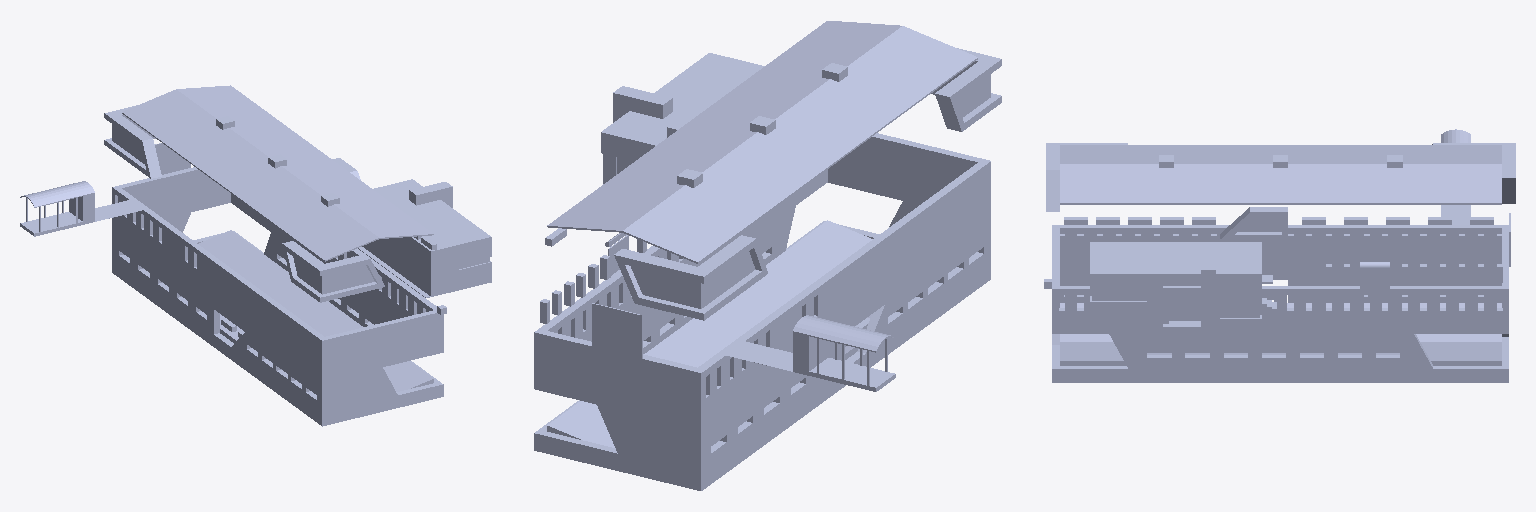
--- Facts derived from the render (not from the file) ---
3 views of the same robot in one strip: view 1: azimuth 30°, elevation 25°; view 2: azimuth 150°, elevation 25°; view 3: azimuth 270°, elevation 25° (orthographic).
Model pvc with 31 links and 30 joints (30 fixed), rooted at base_link, posed all joints at 0.
Links seen in each view (by area): view 1: main, roof_main, sub_main, back_sub_1, frame_2, frame_1, glass_2, back_sub_2, right_door, roof_plate_2, glass_1, roof_plate_1; view 2: main, roof_main, sub_main, frame_1, back_sub_1, glass_1, frame_2, right_door, front_windows, back_sub_2, roof_plate_2, roof_plate_1 (+1 smaller); view 3: main, roof_main, sub_main, front_windows, back_windows, frame_3, roof_plate_2, roof_plate_1, frame_2, big_glass, frame_1, sub_front_door (+1 smaller).
Boxes of the visible links, bbox=[...] form: main: bbox=[112, 167, 443, 426]; roof_main: bbox=[122, 85, 433, 261]; sub_main: bbox=[358, 179, 491, 297]; back_sub_1: bbox=[20, 193, 142, 236]; frame_2: bbox=[282, 241, 384, 302]; frame_1: bbox=[104, 105, 161, 178]; glass_2: bbox=[293, 257, 374, 294]; back_sub_2: bbox=[20, 181, 94, 207]; right_door: bbox=[155, 143, 190, 174]; roof_plate_2: bbox=[296, 169, 361, 194]; glass_1: bbox=[112, 119, 150, 163]; roof_plate_1: bbox=[289, 168, 364, 195]; main: bbox=[534, 133, 990, 490]; roof_main: bbox=[547, 21, 977, 263]; sub_main: bbox=[601, 53, 764, 179]; frame_1: bbox=[614, 235, 767, 320]; back_sub_1: bbox=[726, 332, 895, 391]; glass_1: bbox=[631, 252, 755, 308]; frame_2: bbox=[931, 48, 1001, 131]; right_door: bbox=[592, 303, 642, 358]; front_windows: bbox=[540, 228, 646, 323]; back_sub_2: bbox=[793, 315, 895, 351]; roof_plate_2: bbox=[724, 80, 814, 115]; roof_plate_1: bbox=[719, 78, 824, 117]; main: bbox=[1052, 225, 1508, 382]; roof_main: bbox=[1060, 145, 1501, 204]; sub_main: bbox=[1090, 242, 1276, 330]; front_windows: bbox=[1064, 217, 1502, 282]; back_windows: bbox=[1060, 234, 1501, 299]; frame_3: bbox=[1220, 207, 1287, 239]; roof_plate_2: bbox=[1185, 168, 1254, 192]; roof_plate_1: bbox=[1182, 164, 1257, 194]; frame_2: bbox=[1046, 143, 1127, 211]; big_glass: bbox=[1220, 291, 1259, 317]; frame_1: bbox=[1432, 143, 1515, 203]; sub_front_door: bbox=[1169, 294, 1200, 320].
Bounding box of the posed robot: 50.8 × 61.8 × 27.8 m (x, y, z).
Meshes: 31 distinct files referenced, 24 mesh visuals loaded (24 binary STL); not drawn: 7 (file found but could not be loaded).

The robot description file, URDF, robot "pvc":
<?xml version="1.0" encoding="utf-8"?>
<!-- This URDF was automatically created by SolidWorks to URDF Exporter! Originally created by Stephen Brawner ([email redacted]) 
     Commit Version: 1.5.1-0-g916b5db  Build Version: 1.5.7152.31018
     For more information, please see http://wiki.ros.org/sw_urdf_exporter -->
<robot
  name="pvc">
  <link
    name="base_link">
    <inertial>
      <origin
        xyz="10.256 -92.1 -4.2005"
        rpy="0 0 0" />
      <mass
        value="1000" />
      <inertia
        ixx="166.67"
        ixy="9.2519E-16"
        ixz="4.4409E-13"
        iyy="166.67"
        iyz="1.5777E-30"
        izz="166.67" />
    </inertial>
    <visual>
      <origin
        xyz="0 0 0"
        rpy="0 0 0" />
      <geometry>
        <mesh
          filename="package://pvc/meshes/base_link.STL" />
      </geometry>
      <material
        name="">
        <color
          rgba="0.79216 0.81961 0.93333 1" />
      </material>
    </visual>
    <collision>
      <origin
        xyz="0 0 0"
        rpy="0 0 0" />
      <geometry>
        <mesh
          filename="package://pvc/meshes/base_link.STL" />
      </geometry>
    </collision>
  </link>
  <link
    name="main_link">
    <inertial>
      <origin
        xyz="-19.3630057590991 5.90480374452152 47.0529907034405"
        rpy="0 0 0" />
      <mass
        value="3442807.25349707" />
      <inertia
        ixx="1157032985.3595"
        ixy="1659233.67130949"
        ixz="1000244.29349725"
        iyy="1279028266.00987"
        iyz="1985274.54687831"
        izz="221161978.183764" />
    </inertial>
    <visual>
      <origin
        xyz="0 0 0"
        rpy="0 0 0" />
      <geometry>
        <mesh
          filename="package://pvc/meshes/main_link.STL" />
      </geometry>
      <material
        name="">
        <color
          rgba="0.752941176470588 0.752941176470588 0.752941176470588 1" />
      </material>
    </visual>
    <collision>
      <origin
        xyz="0 0 0"
        rpy="0 0 0" />
      <geometry>
        <mesh
          filename="package://pvc/meshes/main_link.STL" />
      </geometry>
    </collision>
  </link>
  <joint
    name="main_link"
    type="fixed">
    <origin
      xyz="20.042 -14.504 -1.7998"
      rpy="1.5708 0 0" />
    <parent
      link="base_link" />
    <child
      link="main_link" />
    <axis
      xyz="0 0 0" />
  </joint>
  <link
    name="large_window_1">
    <inertial>
      <origin
        xyz="12.1782120496746 4.75178396310253 15.1892410748826"
        rpy="0 0 0" />
      <mass
        value="126489.683919039" />
      <inertia
        ixx="2120463.32696713"
        ixy="-70277.8488771684"
        ixz="795610.055889251"
        iyy="2798844.63863607"
        iyz="90440.015543835"
        izz="1321252.76935295" />
    </inertial>
    <visual>
      <origin
        xyz="0 0 0"
        rpy="0 0 0" />
      <geometry>
        <mesh
          filename="package://pvc/meshes/large_window_1.STL" />
      </geometry>
      <material
        name="">
        <color
          rgba="0.752941176470588 0.752941176470588 0.752941176470588 1" />
      </material>
    </visual>
    <collision>
      <origin
        xyz="0 0 0"
        rpy="0 0 0" />
      <geometry>
        <mesh
          filename="package://pvc/meshes/large_window_1.STL" />
      </geometry>
    </collision>
  </link>
  <joint
    name="large_window_1"
    type="fixed">
    <origin
      xyz="-39.2425769434349 1.34756855883034 5.37955556265205"
      rpy="0 0 0" />
    <parent
      link="main_link" />
    <child
      link="large_window_1" />
    <axis
      xyz="0 0 0" />
  </joint>
  <link
    name="frame_1">
    <inertial>
      <origin
        xyz="2.35219887985317 2.5 3.60219887985318"
        rpy="0 0 0" />
      <mass
        value="67971.7888178389" />
      <inertia
        ixx="1434862.22620417"
        ixy="-58231.8724736295"
        ixz="536137.570921857"
        iyy="1854288.58599855"
        iyz="74299.8724736293"
        izz="949553.339583414" />
    </inertial>
    <visual>
      <origin
        xyz="0 0 0"
        rpy="0 0 0" />
      <geometry>
        <mesh
          filename="package://pvc/meshes/frame_1.STL" />
      </geometry>
      <material
        name="">
        <color
          rgba="0.792156862745098 0.819607843137255 0.933333333333333 1" />
      </material>
    </visual>
    <collision>
      <origin
        xyz="0 0 0"
        rpy="0 0 0" />
      <geometry>
        <mesh
          filename="package://pvc/meshes/frame_1.STL" />
      </geometry>
    </collision>
  </link>
  <joint
    name="frame_1"
    type="fixed">
    <origin
      xyz="9.95586404215977 2.25178396310253 11.7168930673677"
      rpy="0 0 0" />
    <parent
      link="large_window_1" />
    <child
      link="frame_1" />
    <axis
      xyz="0 0 0" />
  </joint>
  <link
    name="glass_1">
    <inertial>
      <origin
        xyz="2.0715189994459 2.5 3.3215189994459"
        rpy="0 0 0" />
      <mass
        value="58517.8951012005" />
      <inertia
        ixx="685601.100762963"
        ixy="-12045.976403539"
        ixz="259472.484967393"
        iyy="944556.052637522"
        iyz="16140.1430702057"
        izz="371699.429769539" />
    </inertial>
    <visual>
      <origin
        xyz="0 0 0"
        rpy="0 0 0" />
      <geometry>
        <mesh
          filename="package://pvc/meshes/glass_1.STL" />
      </geometry>
      <material
        name="">
        <color
          rgba="0.792156862745098 0.819607843137255 0.933333333333333 1" />
      </material>
    </visual>
    <collision>
      <origin
        xyz="0 0 0"
        rpy="0 0 0" />
      <geometry>
        <mesh
          filename="package://pvc/meshes/glass_1.STL" />
      </geometry>
    </collision>
  </link>
  <joint
    name="glass_1"
    type="fixed">
    <origin
      xyz="9.95586404215977 2.25178396310253 11.7168930673677"
      rpy="0 0 0" />
    <parent
      link="large_window_1" />
    <child
      link="glass_1" />
    <axis
      xyz="0 0 0" />
  </joint>
  <link
    name="large_window_2">
    <inertial>
      <origin
        xyz="-5.89494104181004 3.72865072509259 9.17644210199591"
        rpy="0 0 0" />
      <mass
        value="110789.683919039" />
      <inertia
        ixx="1212868.31732363"
        ixy="-70277.8488771678"
        ixz="554707.878006564"
        iyy="1863513.84362992"
        iyz="70277.8488771679"
        izz="1212868.31732363" />
    </inertial>
    <visual>
      <origin
        xyz="0 0 0"
        rpy="0 0 0" />
      <geometry>
        <mesh
          filename="package://pvc/meshes/large_window_2.STL" />
      </geometry>
      <material
        name="">
        <color
          rgba="0.752941176470588 0.752941176470588 0.752941176470588 1" />
      </material>
    </visual>
    <collision>
      <origin
        xyz="0 0 0"
        rpy="0 0 0" />
      <geometry>
        <mesh
          filename="package://pvc/meshes/large_window_2.STL" />
      </geometry>
    </collision>
  </link>
  <joint
    name="large_window_2"
    type="fixed">
    <origin
      xyz="-35.9707379544919 2.3707017968403 68.7090905394307"
      rpy="0 1.5707963267949 0" />
    <parent
      link="main_link" />
    <child
      link="large_window_2" />
    <axis
      xyz="0 0 0" />
  </joint>
  <link
    name="frame_2">
    <inertial>
      <origin
        xyz="2.61903045171209 2.5 2.6190304517121"
        rpy="0 0 0" />
      <mass
        value="60771.7888178388" />
      <inertia
        ixx="874625.165139445"
        ixy="-58231.8724736288"
        ixz="385628.262069382"
        iyy="1283395.35048986"
        iyz="58231.8724736288"
        izz="874625.165139447" />
    </inertial>
    <visual>
      <origin
        xyz="0 0 0"
        rpy="0 0 0" />
      <geometry>
        <mesh
          filename="package://pvc/meshes/frame_2.STL" />
      </geometry>
      <material
        name="">
        <color
          rgba="0.792156862745098 0.819607843137255 0.933333333333333 1" />
      </material>
    </visual>
    <collision>
      <origin
        xyz="0 0 0"
        rpy="0 0 0" />
      <geometry>
        <mesh
          filename="package://pvc/meshes/frame_2.STL" />
      </geometry>
    </collision>
  </link>
  <joint
    name="frame_2"
    type="fixed">
    <origin
      xyz="-8.38735809058912 1.22865072509259 6.68402505321685"
      rpy="0 0 0" />
    <parent
      link="large_window_2" />
    <child
      link="frame_2" />
    <axis
      xyz="0 0 0" />
  </joint>
  <link
    name="glass_2">
    <inertial>
      <origin
        xyz="2.33858164708957 2.49999999999999 2.33858164708958"
        rpy="0 0 0" />
      <mass
        value="50017.8951012006" />
      <inertia
        ixx="338243.152184186"
        ixy="-12045.9764035389"
        ixz="169079.615937182"
        iyy="580118.493140059"
        iyz="12045.9764035391"
        izz="338243.152184186" />
    </inertial>
    <visual>
      <origin
        xyz="0 0 0"
        rpy="0 0 0" />
      <geometry>
        <mesh
          filename="package://pvc/meshes/glass_2.STL" />
      </geometry>
      <material
        name="">
        <color
          rgba="0.792156862745098 0.819607843137255 0.933333333333333 1" />
      </material>
    </visual>
    <collision>
      <origin
        xyz="0 0 0"
        rpy="0 0 0" />
      <geometry>
        <mesh
          filename="package://pvc/meshes/glass_2.STL" />
      </geometry>
    </collision>
  </link>
  <joint
    name="glass_2"
    type="fixed">
    <origin
      xyz="-8.38735809058912 1.22865072509259 6.68402505321685"
      rpy="0 0 0" />
    <parent
      link="large_window_2" />
    <child
      link="glass_2" />
    <axis
      xyz="0 0 0" />
  </joint>
  <link
    name="large_window_3">
    <inertial>
      <origin
        xyz="-0.503475338180358 0.629579866719466 8.88035172071675"
        rpy="0 0 0" />
      <mass
        value="40668.2320318051" />
      <inertia
        ixx="69141.975776826"
        ixy="-29601.7548732141"
        ixz="-9.65211802380359E-12"
        iyy="222737.78221881"
        iyz="-8.33840920977816E-12"
        izz="274460.404416952" />
    </inertial>
    <visual>
      <origin
        xyz="0 0 0"
        rpy="0 0 0" />
      <geometry>
        <mesh
          filename="package://pvc/meshes/large_window_3.STL" />
      </geometry>
      <material
        name="">
        <color
          rgba="0.752941176470588 0.752941176470588 0.752941176470588 1" />
      </material>
    </visual>
    <collision>
      <origin
        xyz="0 0 0"
        rpy="0 0 0" />
      <geometry>
        <mesh
          filename="package://pvc/meshes/large_window_3.STL" />
      </geometry>
    </collision>
  </link>
  <joint
    name="large_window_3"
    type="fixed">
    <origin
      xyz="-18.3867129012751 5.75637759065263 49.2393187761148"
      rpy="0 1.5707963267949 0" />
    <parent
      link="main_link" />
    <child
      link="large_window_3" />
    <axis
      xyz="0 0 0" />
  </joint>
  <link
    name="frame_3">
    <inertial>
      <origin
        xyz="-6.25930575287884 9.23594842135284 0.0999999999999996"
        rpy="0 0 0" />
      <mass
        value="28503.5220715615" />
      <inertia
        ixx="62398.2837521416"
        ixy="-26736.7717758821"
        ixz="-1.02057866576654E-11"
        iyy="192788.167864526"
        iyz="-9.4244154003967E-12"
        izz="239794.549698025" />
    </inertial>
    <visual>
      <origin
        xyz="0 0 0"
        rpy="0 0 0" />
      <geometry>
        <mesh
          filename="package://pvc/meshes/frame_3.STL" />
      </geometry>
      <material
        name="">
        <color
          rgba="0.792156862745098 0.819607843137255 0.933333333333333 1" />
      </material>
    </visual>
    <collision>
      <origin
        xyz="0 0 0"
        rpy="0 0 0" />
      <geometry>
        <mesh
          filename="package://pvc/meshes/frame_3.STL" />
      </geometry>
    </collision>
  </link>
  <joint
    name="frame_3"
    type="fixed">
    <origin
      xyz="5.64287014609501 -8.65702506871975 8.9"
      rpy="0 0 0" />
    <parent
      link="large_window_3" />
    <child
      link="frame_3" />
    <axis
      xyz="0 0 0" />
  </joint>
  <link
    name="glass_3">
    <inertial>
      <origin
        xyz="-5.88166465588971 9.40529983832208 0.5"
        rpy="0 0 0" />
      <mass
        value="12164.7099602436" />
      <inertia
        ixx="6743.6920246844"
        ixy="-2864.98309733204"
        ixz="5.53668633861799E-13"
        iyy="29949.6143542831"
        iyz="1.087657379027E-12"
        izz="34665.8547189269" />
    </inertial>
    <visual>
      <origin
        xyz="0 0 0"
        rpy="0 0 0" />
      <geometry>
        <mesh
          filename="package://pvc/meshes/glass_3.STL" />
      </geometry>
      <material
        name="">
        <color
          rgba="0.792156862745098 0.819607843137255 0.933333333333333 1" />
      </material>
    </visual>
    <collision>
      <origin
        xyz="0 0 0"
        rpy="0 0 0" />
      <geometry>
        <mesh
          filename="package://pvc/meshes/glass_3.STL" />
      </geometry>
    </collision>
  </link>
  <joint
    name="glass_3"
    type="fixed">
    <origin
      xyz="5.64287014609501 -8.65702506871975 8.1"
      rpy="0 0 0" />
    <parent
      link="large_window_3" />
    <child
      link="glass_3" />
    <axis
      xyz="0 0 0" />
  </joint>
  <link
    name="main">
    <inertial>
      <origin
        xyz="0.143494690048826 -8.60672754712109 0.454621689337197"
        rpy="0 0 0" />
      <mass
        value="2853940.68027188" />
      <inertia
        ixx="212816595.033728"
        ixy="-1793804.76764386"
        ixz="739256.432199772"
        iyy="1208377764.087"
        iyz="-1658732.74571304"
        izz="1093218497.33095" />
    </inertial>
    <visual>
      <origin
        xyz="0 0 0"
        rpy="0 0 0" />
      <geometry>
        <mesh
          filename="package://pvc/meshes/main.STL" />
      </geometry>
      <material
        name="">
        <color
          rgba="0.792156862745098 0.819607843137255 0.933333333333333 1" />
      </material>
    </visual>
    <collision>
      <origin
        xyz="0 0 0"
        rpy="0 0 0" />
      <geometry>
        <mesh
          filename="package://pvc/meshes/main.STL" />
      </geometry>
    </collision>
  </link>
  <joint
    name="main"
    type="fixed">
    <origin
      xyz="-19.2867129012751 -2.90064747806712 47.0964486300198"
      rpy="0 -1.5707963267949 0" />
    <parent
      link="main_link" />
    <child
      link="main" />
    <axis
      xyz="0 0 0" />
  </joint>
  <link
    name="roof">
    <inertial>
      <origin
        xyz="-41.9611300739514 23.2314476939045 49.2407099495549"
        rpy="0 0 0" />
      <mass
        value="219399.999999999" />
      <inertia
        ixx="5687618.0829418"
        ixy="1151.05361091158"
        ixz="-20085.6834221403"
        iyy="65710987.8207085"
        iyz="-492.386699647628"
        izz="60133796.8221995" />
    </inertial>
    <visual>
      <origin
        xyz="0 0 0"
        rpy="0 0 0" />
      <geometry>
        <mesh
          filename="package://pvc/meshes/roof.STL" />
      </geometry>
      <material
        name="">
        <color
          rgba="0.752941176470588 0.752941176470588 0.752941176470588 1" />
      </material>
    </visual>
    <collision>
      <origin
        xyz="0 0 0"
        rpy="0 0 0" />
      <geometry>
        <mesh
          filename="package://pvc/meshes/roof.STL" />
      </geometry>
    </collision>
  </link>
  <joint
    name="roof"
    type="fixed">
    <origin
      xyz="29.9539970482798 -13.423778939 89.0575790498575"
      rpy="-1.5707963267949 -1.57079631189374 1.5707963267949" />
    <parent
      link="main_link" />
    <child
      link="roof" />
    <axis
      xyz="0 0 0" />
  </joint>
  <link
    name="roof_main">
    <inertial>
      <origin
        xyz="-29.0260614340081 0.907660753272412 -8.98855647025136"
        rpy="0 0 0" />
      <mass
        value="218687.585620454" />
      <inertia
        ixx="5684682.93784561"
        ixy="1151.05356549428"
        ixz="-20085.6834150537"
        iyy="65705002.2236029"
        iyz="-16.4191500328177"
        izz="60130587.7024665" />
    </inertial>
    <visual>
      <origin
        xyz="0 0 0"
        rpy="0 0 0" />
      <geometry>
        <mesh
          filename="package://pvc/meshes/roof_main.STL" />
      </geometry>
      <material
        name="">
        <color
          rgba="0.792156862745098 0.819607843137255 0.933333333333333 1" />
      </material>
    </visual>
    <collision>
      <origin
        xyz="0 0 0"
        rpy="0 0 0" />
      <geometry>
        <mesh
          filename="package://pvc/meshes/roof_main.STL" />
      </geometry>
    </collision>
  </link>
  <joint
    name="roof_main"
    type="fixed">
    <origin
      xyz="-12.961130087475 22.3231316539074 58.2407099495549"
      rpy="0 0 0" />
    <parent
      link="roof" />
    <child
      link="roof_main" />
    <axis
      xyz="0 0 0" />
  </joint>
  <link
    name="roof_plate_1">
    <inertial>
      <origin
        xyz="-5.00000000007344 3.91283534919386 0.00499992660343018"
        rpy="0 0 0" />
      <mass
        value="335.414379544736" />
      <inertia
        ixx="1878.28528786426"
        ixy="-2.46375802028015E-11"
        ixz="-4.57481836942081E-05"
        iyy="3116.51512465932"
        iyz="2.83932875401424E-11"
        izz="4994.79482228392" />
    </inertial>
    <visual>
      <origin
        xyz="0 0 0"
        rpy="0 0 0" />
      <geometry>
        <mesh
          filename="package://pvc/meshes/roof_plate_1.STL" />
      </geometry>
      <material
        name="">
        <color
          rgba="0.792156862745098 0.819607843137255 0.933333333333333 1" />
      </material>
    </visual>
    <collision>
      <origin
        xyz="0 0 0"
        rpy="0 0 0" />
      <geometry>
        <mesh
          filename="package://pvc/meshes/roof_plate_1.STL" />
      </geometry>
    </collision>
  </link>
  <joint
    name="roof_plate_1"
    type="fixed">
    <origin
      xyz="-28.9611300796019 22.8519298667375 42.2134977972192"
      rpy="1.40564764938028 0 0" />
    <parent
      link="roof" />
    <child
      link="roof_plate_1" />
    <axis
      xyz="0 0 0" />
  </joint>
  <link
    name="roof_plate_2">
    <inertial>
      <origin
        xyz="-5.0000000000734 3.24999999999997 0.00499992660344439"
        rpy="0 0 0" />
      <mass
        value="376.999999999996" />
      <inertia
        ixx="1056.85980833333"
        ixy="1.6018280958341E-13"
        ixz="-1.948002261764E-07"
        iyy="13.2766833333331"
        iyz="1.6016521443628E-11"
        izz="1070.13020833333" />
    </inertial>
    <visual>
      <origin
        xyz="0 0 0"
        rpy="0 0 0" />
      <geometry>
        <mesh
          filename="package://pvc/meshes/roof_plate_2.STL" />
      </geometry>
      <material
        name="">
        <color
          rgba="0.792156862745098 0.819607843137255 0.933333333333333 1" />
      </material>
    </visual>
    <collision>
      <origin
        xyz="0 0 0"
        rpy="0 0 0" />
      <geometry>
        <mesh
          filename="package://pvc/meshes/roof_plate_2.STL" />
      </geometry>
    </collision>
  </link>
  <joint
    name="roof_plate_2"
    type="fixed">
    <origin
      xyz="-28.9611300796019 22.8519298667375 42.2134977972192"
      rpy="1.40564764938028 0 0" />
    <parent
      link="roof" />
    <child
      link="roof_plate_2" />
    <axis
      xyz="0 0 0" />
  </joint>
  <link
    name="back_windows">
    <inertial>
      <origin
        xyz="0.251999999999988 -4.12799999999986 -0.400000000000006"
        rpy="0 0 0" />
      <mass
        value="51200.0000000056" />
      <inertia
        ixx="21189.9733333415"
        ixy="-7.58512423242329E-12"
        ixz="4.29286236188497E-14"
        iyy="16930.133333334"
        iyz="3.22610086792984E-13"
        izz="32658.7733333415" />
    </inertial>
    <visual>
      <origin
        xyz="0 0 0"
        rpy="0 0 0" />
      <geometry>
        <mesh
          filename="package://pvc/meshes/back_windows.STL" />
      </geometry>
      <material
        name="">
        <color
          rgba="0.792156862745098 0.819607843137255 0.933333333333333 1" />
      </material>
    </visual>
    <collision>
      <origin
        xyz="0 0 0"
        rpy="0 0 0" />
      <geometry>
        <mesh
          filename="package://pvc/meshes/back_windows.STL" />
      </geometry>
    </collision>
  </link>
  <joint
    name="back_windows"
    type="fixed">
    <origin
      xyz="-28.2867129012751 -2.90064747806779 47.0964486300198"
      rpy="0 -1.5707963267949 0" />
    <parent
      link="main_link" />
    <child
      link="back_windows" />
    <axis
      xyz="0 0 0" />
  </joint>
  <link
    name="front_windows">
    <inertial>
      <origin
        xyz="6.06249999999992 6.75 0.399999999999983"
        rpy="0 0 0" />
      <mass
        value="32767.9999999999" />
      <inertia
        ixx="8738.13333333316"
        ixy="9.93043140252865E-12"
        ixz="5.52462238737165E-11"
        iyy="19879.2533333333"
        iyz="-2.16151453479672E-13"
        izz="25122.1333333332" />
    </inertial>
    <visual>
      <origin
        xyz="0 0 0"
        rpy="0 0 0" />
      <geometry>
        <mesh
          filename="package://pvc/meshes/front_windows.STL" />
      </geometry>
      <material
        name="">
        <color
          rgba="0.792156862745098 0.819607843137255 0.933333333333333 1" />
      </material>
    </visual>
    <collision>
      <origin
        xyz="0 0 0"
        rpy="0 0 0" />
      <geometry>
        <mesh
          filename="package://pvc/meshes/front_windows.STL" />
      </geometry>
    </collision>
  </link>
  <joint
    name="front_windows"
    type="fixed">
    <origin
      xyz="-10.2867129012749 -2.90064747806712 47.0964486300198"
      rpy="0 1.5707963267949 0" />
    <parent
      link="main_link" />
    <child
      link="front_windows" />
    <axis
      xyz="0 0 0" />
  </joint>
  <link
    name="right_door">
    <inertial>
      <origin
        xyz="-1.11022302462516E-16 2.5 0.0750000000000064"
        rpy="0 0 0" />
      <mass
        value="4499.99999999996" />
      <inertia
        ixx="9383.43749999991"
        ixy="-1.66533453693772E-13"
        ixz="-1.77635683940023E-14"
        iyy="13508.4374999999"
        iyz="-7.48972756150585E-31"
        izz="22874.9999999998" />
    </inertial>
    <visual>
      <origin
        xyz="0 0 0"
        rpy="0 0 0" />
      <geometry>
        <mesh
          filename="package://pvc/meshes/right_door.STL" />
      </geometry>
      <material
        name="">
        <color
          rgba="0.792156862745098 0.819607843137255 0.933333333333333 1" />
      </material>
    </visual>
    <collision>
      <origin
        xyz="0 0 0"
        rpy="0 0 0" />
      <geometry>
        <mesh
          filename="package://pvc/meshes/right_door.STL" />
      </geometry>
    </collision>
  </link>
  <joint
    name="right_door"
    type="fixed">
    <origin
      xyz="-19.2867129012751 -2.90064747806712 16.9464486300198"
      rpy="0 0 0" />
    <parent
      link="main_link" />
    <child
      link="right_door" />
    <axis
      xyz="0 0 0" />
  </joint>
  <link
    name="front_door">
    <inertial>
      <origin
        xyz="-7.105427357601E-15 2.36164284932063 0.141594156910822"
        rpy="0 0 0" />
      <mass
        value="3050.97335529233" />
      <inertia
        ixx="1698.89800839913"
        ixy="-3.76111205445622E-13"
        ixz="1.43720413827821E-11"
        iyy="4100.01347792267"
        iyz="8.53859777674536"
        izz="5734.81347792267" />
    </inertial>
    <visual>
      <origin
        xyz="0 0 0"
        rpy="0 0 0" />
      <geometry>
        <mesh
          filename="package://pvc/meshes/front_door.STL" />
      </geometry>
      <material
        name="">
        <color
          rgba="0.792156862745098 0.819607843137255 0.933333333333333 1" />
      </material>
    </visual>
    <collision>
      <origin
        xyz="0 0 0"
        rpy="0 0 0" />
      <geometry>
        <mesh
          filename="package://pvc/meshes/front_door.STL" />
      </geometry>
    </collision>
  </link>
  <joint
    name="front_door"
    type="fixed">
    <origin
      xyz="-9.28671290127497 -2.90064747806712 34.7214486300198"
      rpy="0 1.5707963267949 0" />
    <parent
      link="main_link" />
    <child
      link="front_door" />
    <axis
      xyz="0 0 0" />
  </joint>
  <link
    name="back_link">
    <inertial>
      <origin
        xyz="-0.158382252579052 -2.86572985993179 9.19041399364423"
        rpy="0 0 0" />
      <mass
        value="59302.6486145417" />
      <inertia
        ixx="593746.301186771"
        ixy="3.11210670515527E-12"
        ixz="-2.31325838930079E-10"
        iyy="548027.854843686"
        iyz="-91124.0461001585"
        izz="208334.738359049" />
    </inertial>
    <visual>
      <origin
        xyz="0 0 0"
        rpy="0 0 0" />
      <geometry>
        <mesh
          filename="package://pvc/meshes/back_link.STL" />
      </geometry>
      <material
        name="">
        <color
          rgba="0.752941176470588 0.752941176470588 0.752941176470588 1" />
      </material>
    </visual>
    <collision>
      <origin
        xyz="0 0 0"
        rpy="0 0 0" />
      <geometry>
        <mesh
          filename="package://pvc/meshes/back_link.STL" />
      </geometry>
    </collision>
  </link>
  <joint
    name="back_link"
    type="fixed">
    <origin
      xyz="-29.244 -38.442 0.15773"
      rpy="1.5708 0 1.5708" />
    <parent
      link="base_link" />
    <child
      link="back_link" />
    <axis
      xyz="0 0 0" />
  </joint>
  <link
    name="back_sub_1">
    <inertial>
      <origin
        xyz="2 -2.63565535643514 -1.74281535006084"
        rpy="0 0 0" />
      <mass
        value="54940.1085577796" />
      <inertia
        ixx="557180.475742585"
        ixy="-2.35147068505599E-10"
        ixz="-1.46111216592133E-11"
        iyy="202471.672848153"
        iyz="91124.0461001583"
        izz="506021.613830942" />
    </inertial>
    <visual>
      <origin
        xyz="0 0 0"
        rpy="0 0 0" />
      <geometry>
        <mesh
          filename="package://pvc/meshes/back_sub_1.STL" />
      </geometry>
      <material
        name="">
        <color
          rgba="0.792156862745098 0.819607843137255 0.933333333333333 1" />
      </material>
    </visual>
    <collision>
      <origin
        xyz="0 0 0"
        rpy="0 0 0" />
      <geometry>
        <mesh
          filename="package://pvc/meshes/back_sub_1.STL" />
      </geometry>
    </collision>
  </link>
  <joint
    name="back_sub_1"
    type="fixed">
    <origin
      xyz="-2.15838225257905 -4.85818682703273 12"
      rpy="1.5707963267949 0 0" />
    <parent
      link="back_link" />
    <child
      link="back_sub_1" />
    <axis
      xyz="0 0 0" />
  </joint>
  <link
    name="back_sub_2">
    <inertial>
      <origin
        xyz="-2 -4.6263450144928 5.00000000000001"
        rpy="0 0 0" />
      <mass
        value="4362.54005676206" />
      <inertia
        ixx="36565.8254441856"
        ixy="1.10725371137335E-11"
        ixz="-5.92118946466865E-13"
        iyy="42006.241012744"
        iyz="-1.47507138483634E-10"
        izz="5863.0655108951" />
    </inertial>
    <visual>
      <origin
        xyz="0 0 0"
        rpy="0 0 0" />
      <geometry>
        <mesh
          filename="package://pvc/meshes/back_sub_2.STL" />
      </geometry>
      <material
        name="">
        <color
          rgba="0.792156862745098 0.819607843137255 0.933333333333333 1" />
      </material>
    </visual>
    <collision>
      <origin
        xyz="0 0 0"
        rpy="0 0 0" />
      <geometry>
        <mesh
          filename="package://pvc/meshes/back_sub_2.STL" />
      </geometry>
    </collision>
  </link>
  <joint
    name="back_sub_2"
    type="fixed">
    <origin
      xyz="1.84161774742094 -4.34818682703269 12"
      rpy="3.14159265358979 0 0" />
    <parent
      link="back_link" />
    <child
      link="back_sub_2" />
    <axis
      xyz="0 0 0" />
  </joint>
  <link
    name="front_link">
    <inertial>
      <origin
        xyz="0 0 0"
        rpy="0 0 0" />
      <mass
        value="0" />
      <inertia
        ixx="0"
        ixy="0"
        ixz="0"
        iyy="0"
        iyz="0"
        izz="0" />
    </inertial>
    <visual>
      <origin
        xyz="0 0 0"
        rpy="0 0 0" />
      <geometry>
        <mesh
          filename="package://pvc/meshes/front_link.STL" />
      </geometry>
      <material
        name="">
        <color
          rgba="1 1 1 1" />
      </material>
    </visual>
    <collision>
      <origin
        xyz="0 0 0"
        rpy="0 0 0" />
      <geometry>
        <mesh
          filename="package://pvc/meshes/front_link.STL" />
      </geometry>
    </collision>
  </link>
  <joint
    name="front_link"
    type="fixed">
    <origin
      xyz="28.0451810814272 -88.8012197270756 -30.1995800884917"
      rpy="1.5707963267949 0 1.5707963267949" />
    <parent
      link="base_link" />
    <child
      link="front_link" />
    <axis
      xyz="0 0 0" />
  </joint>
  <link
    name="small_glass">
    <inertial>
      <origin
        xyz="2.5936974789916 3.6 -1.64369747899161"
        rpy="0 0 0" />
      <mass
        value="7616.00000000001" />
      <inertia
        ixx="19012.2308123249"
        ixy="4.29255837224631E-12"
        ixz="-15847.5025210084"
        iyy="58586.3282913166"
        iyz="-5.93913297193751E-12"
        izz="40386.470812325" />
    </inertial>
    <visual>
      <origin
        xyz="0 0 0"
        rpy="0 0 0" />
      <geometry>
        <mesh
          filename="package://pvc/meshes/small_glass.STL" />
      </geometry>
      <material
        name="">
        <color
          rgba="0.792156862745098 0.819607843137255 0.933333333333333 1" />
      </material>
    </visual>
    <collision>
      <origin
        xyz="0 0 0"
        rpy="0 0 0" />
      <geometry>
        <mesh
          filename="package://pvc/meshes/small_glass.STL" />
      </geometry>
    </collision>
  </link>
  <joint
    name="small_glass"
    type="fixed">
    <origin
      xyz="2.20121972707564 25.4991230822634 -6.48955934436527"
      rpy="0 0 0" />
    <parent
      link="front_link" />
    <child
      link="small_glass" />
    <axis
      xyz="0 0 0" />
  </joint>
  <link
    name="big_glass">
    <inertial>
      <origin
        xyz="-1.9963700234192 2.87587822014051 -2.26932084309133"
        rpy="0 0 0" />
      <mass
        value="27328" />
      <inertia
        ixx="37514.6666666667"
        ixy="-9.97632702803986E-12"
        ixz="1.20571031347994E-10"
        iyy="43957.3866666666"
        iyz="-7.48259358849044E-14"
        izz="74064.2666666666" />
    </inertial>
    <visual>
      <origin
        xyz="0 0 0"
        rpy="0 0 0" />
      <geometry>
        <mesh
          filename="package://pvc/meshes/big_glass.STL" />
      </geometry>
      <material
        name="">
        <color
          rgba="0.792156862745098 0.819607843137255 0.933333333333333 1" />
      </material>
    </visual>
    <collision>
      <origin
        xyz="0 0 0"
        rpy="0 0 0" />
      <geometry>
        <mesh
          filename="package://pvc/meshes/big_glass.STL" />
      </geometry>
    </collision>
  </link>
  <joint
    name="big_glass"
    type="fixed">
    <origin
      xyz="24.7012197270756 25.4991230822634 -6.48955934436535"
      rpy="0 0 0" />
    <parent
      link="front_link" />
    <child
      link="big_glass" />
    <axis
      xyz="0 0 0" />
  </joint>
  <link
    name="front">
    <inertial>
      <origin
        xyz="1.51702127659574 3.88297872340426 0.299999999999997"
        rpy="0 0 0" />
      <mass
        value="4512" />
      <inertia
        ixx="11264.9327659575"
        ixy="-6133.78723404256"
        ixz="3.49490423948924E-11"
        iyy="10202.2127659575"
        iyz="2.2582290647373E-11"
        izz="21196.4255319149" />
    </inertial>
    <visual>
      <origin
        xyz="0 0 0"
        rpy="0 0 0" />
      <geometry>
        <mesh
          filename="package://pvc/meshes/front.STL" />
      </geometry>
      <material
        name="">
        <color
          rgba="0.792156862745098 0.819607843137255 0.933333333333333 1" />
      </material>
    </visual>
    <collision>
      <origin
        xyz="0 0 0"
        rpy="0 0 0" />
      <geometry>
        <mesh
          filename="package://pvc/meshes/front.STL" />
      </geometry>
    </collision>
  </link>
  <joint
    name="front"
    type="fixed">
    <origin
      xyz="11.7012197270756 25.4991230822634 -6.4895593443653"
      rpy="0 0 0" />
    <parent
      link="front_link" />
    <child
      link="front" />
    <axis
      xyz="0 0 0" />
  </joint>
  <link
    name="sub_front_door">
    <inertial>
      <origin
        xyz="12.4 2.5 0.399999999999956"
        rpy="0 0 0" />
      <mass
        value="14784" />
      <inertia
        ixx="24640"
        ixy="3.40766272795975E-12"
        ixz="6.43325707790502E-11"
        iyy="22520.9600000001"
        iyz="-6.78620839408801E-13"
        izz="45584" />
    </inertial>
    <visual>
      <origin
        xyz="0 0 0"
        rpy="0 0 0" />
      <geometry>
        <mesh
          filename="package://pvc/meshes/sub_front_door.STL" />
      </geometry>
      <material
        name="">
        <color
          rgba="0.792156862745098 0.819607843137255 0.933333333333333 1" />
      </material>
    </visual>
    <collision>
      <origin
        xyz="0 0 0"
        rpy="0 0 0" />
      <geometry>
        <mesh
          filename="package://pvc/meshes/sub_front_door.STL" />
      </geometry>
    </collision>
  </link>
  <joint
    name="sub_front_door"
    type="fixed">
    <origin
      xyz="2.20121972707562 25.4991230822634 -7.48955934436527"
      rpy="0 0 0" />
    <parent
      link="front_link" />
    <child
      link="sub_front_door" />
    <axis
      xyz="0 0 0" />
  </joint>
  <link
    name="right">
    <inertial>
      <origin
        xyz="0.900000000000002 3.125 0.800000000000004"
        rpy="0 0 0" />
      <mass
        value="900" />
      <inertia
        ixx="196.6875"
        ixy="4.49480470332805E-14"
        ixz="2.24280684755988E-13"
        iyy="571.687500000001"
        iyz="1.11131518195126E-13"
        izz="384.375000000001" />
    </inertial>
    <visual>
      <origin
        xyz="0 0 0"
        rpy="0 0 0" />
      <geometry>
        <mesh
          filename="package://pvc/meshes/right.STL" />
      </geometry>
      <material
        name="">
        <color
          rgba="0.792156862745098 0.819607843137255 0.933333333333333 1" />
      </material>
    </visual>
    <collision>
      <origin
        xyz="0 0 0"
        rpy="0 0 0" />
      <geometry>
        <mesh
          filename="package://pvc/meshes/right.STL" />
      </geometry>
    </collision>
  </link>
  <joint
    name="right"
    type="fixed">
    <origin
      xyz="24.6012197270756 26.4991230822634 -10.5895593443653"
      rpy="0 1.5707963267949 0" />
    <parent
      link="front_link" />
    <child
      link="right" />
    <axis
      xyz="0 0 0" />
  </joint>
  <link
    name="sub_right_door">
    <inertial>
      <origin
        xyz="0.9 1.5 -0.400000000000006"
        rpy="0 0 0" />
      <mass
        value="4319.99999999998" />
      <inertia
        ixx="3470.39999999999"
        ixy="1.1041834113712E-12"
        ixz="-7.42517158869708E-14"
        iyy="1396.79999999999"
        iyz="-1.91846538655285E-14"
        izz="4406.39999999998" />
    </inertial>
    <visual>
      <origin
        xyz="0 0 0"
        rpy="0 0 0" />
      <geometry>
        <mesh
          filename="package://pvc/meshes/sub_right_door.STL" />
      </geometry>
      <material
        name="">
        <color
          rgba="0.792156862745098 0.819607843137255 0.933333333333333 1" />
      </material>
    </visual>
    <collision>
      <origin
        xyz="0 0 0"
        rpy="0 0 0" />
      <geometry>
        <mesh
          filename="package://pvc/meshes/sub_right_door.STL" />
      </geometry>
    </collision>
  </link>
  <joint
    name="sub_right_door"
    type="fixed">
    <origin
      xyz="23.7012197270756 26.4991230822634 -12.3895593443653"
      rpy="3.14159265358979 -1.5707963267949 0" />
    <parent
      link="front_link" />
    <child
      link="sub_right_door" />
    <axis
      xyz="0 0 0" />
  </joint>
  <link
    name="sub_main">
    <inertial>
      <origin
        xyz="11.1078129117011 4.65389585347294 -4.93488613399854"
        rpy="0 0 0" />
      <mass
        value="589490.416666667" />
      <inertia
        ixx="11870849.9653005"
        ixy="-658100.789888678"
        ixz="-409315.709197191"
        iyy="38041125.7244482"
        iyz="-454625.261560292"
        izz="32742513.1008403" />
    </inertial>
    <visual>
      <origin
        xyz="0 0 0"
        rpy="0 0 0" />
      <geometry>
        <mesh
          filename="package://pvc/meshes/sub_main.STL" />
      </geometry>
      <material
        name="">
        <color
          rgba="0.792156862745098 0.819607843137255 0.933333333333333 1" />
      </material>
    </visual>
    <collision>
      <origin
        xyz="0 0 0"
        rpy="0 0 0" />
      <geometry>
        <mesh
          filename="package://pvc/meshes/sub_main.STL" />
      </geometry>
    </collision>
  </link>
  <joint
    name="sub_main"
    type="fixed">
    <origin
      xyz="2.20121972707564 25.4991230822634 -6.48955934436527"
      rpy="0 0 0" />
    <parent
      link="front_link" />
    <child
      link="sub_main" />
    <axis
      xyz="0 0 0" />
  </joint>
</robot>
